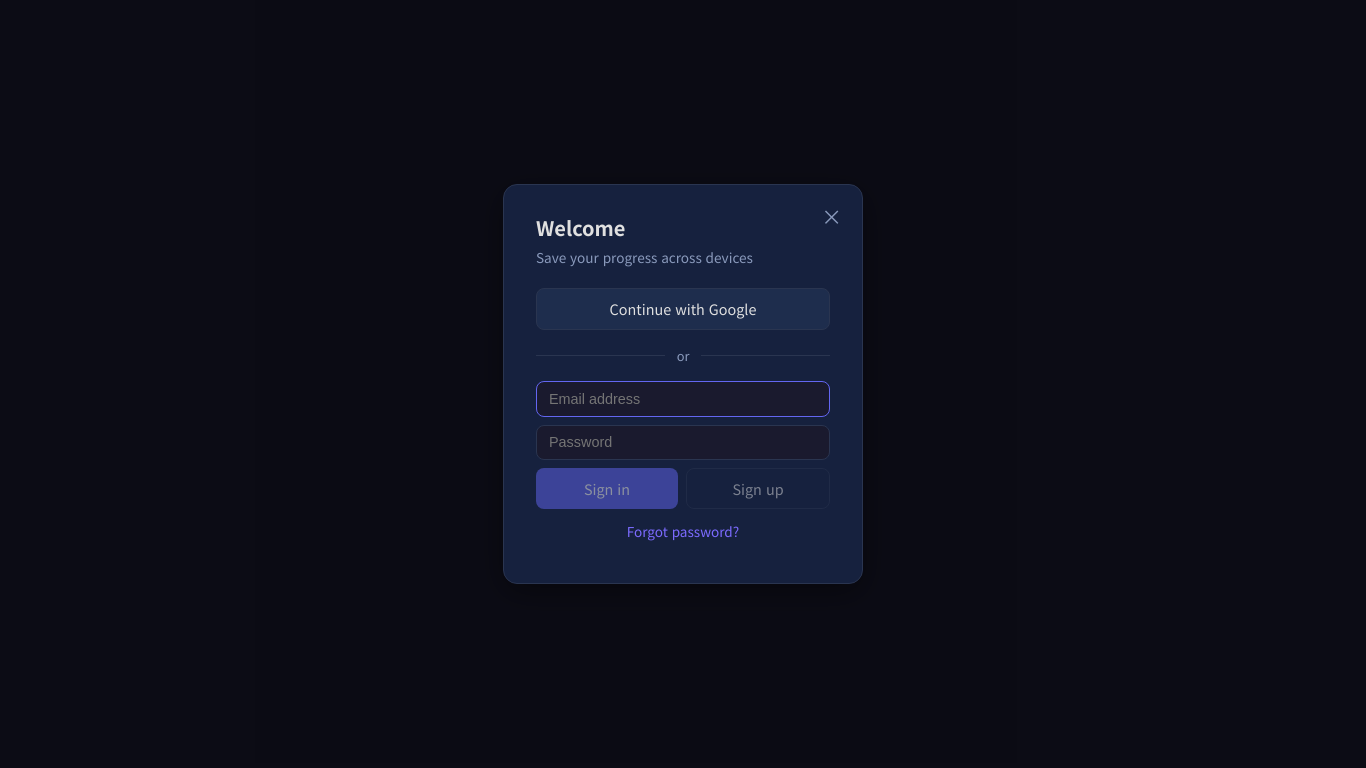
Test case: AuthModal — sign-in / sign-up flow › shows error message on sign-up failure
The width and height of the screenshot is (1366, 768).
Type "existing@example.com" into the field with placeholder "Email address" at [683, 399], box [536,381,830,417]
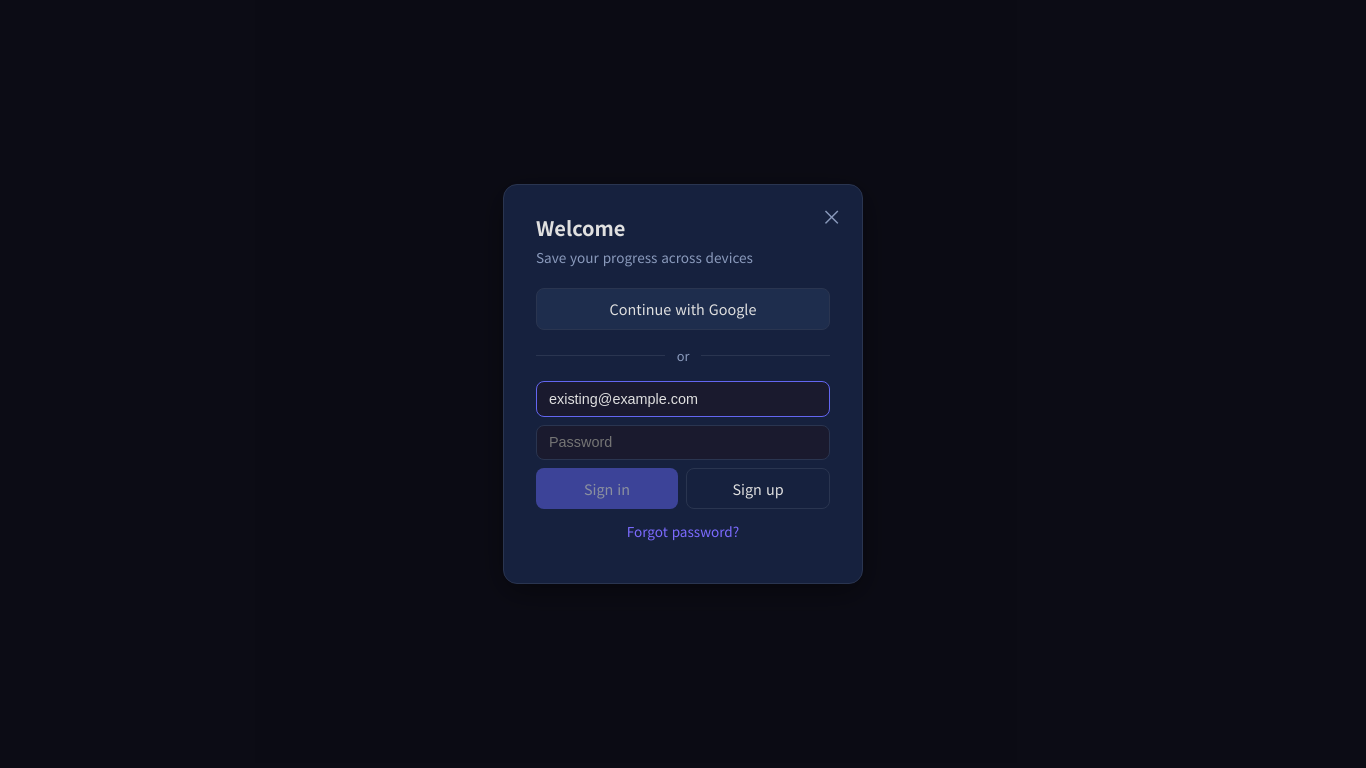
Type "pass123" into the password field with placeholder "Password" at [683, 442], box [536,425,830,460]
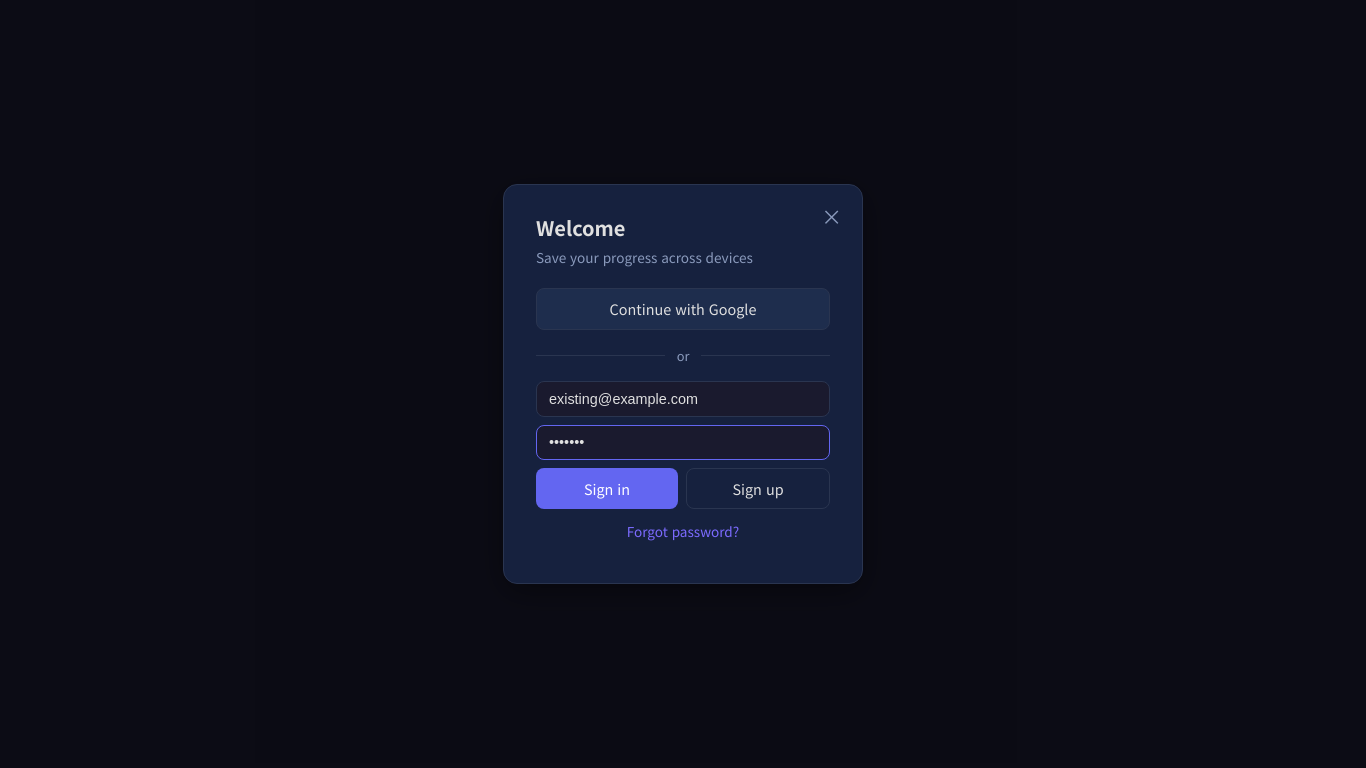
Click Sign up to reveal confirm email field
Click the button "Sign up" at [758, 488], box [686,468,830,509]
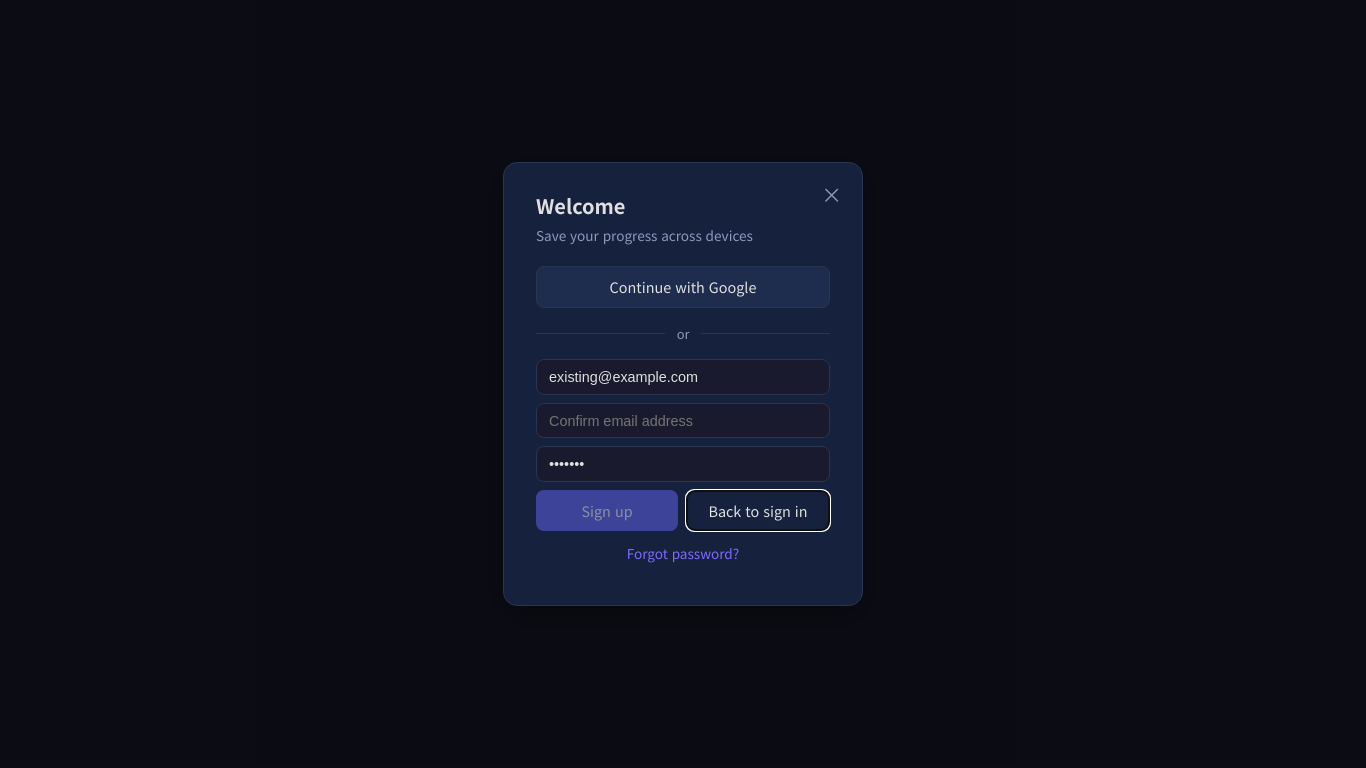
Type "existing@example.com" into the field with placeholder "Confirm email address" at [683, 421], box [536,403,830,438]
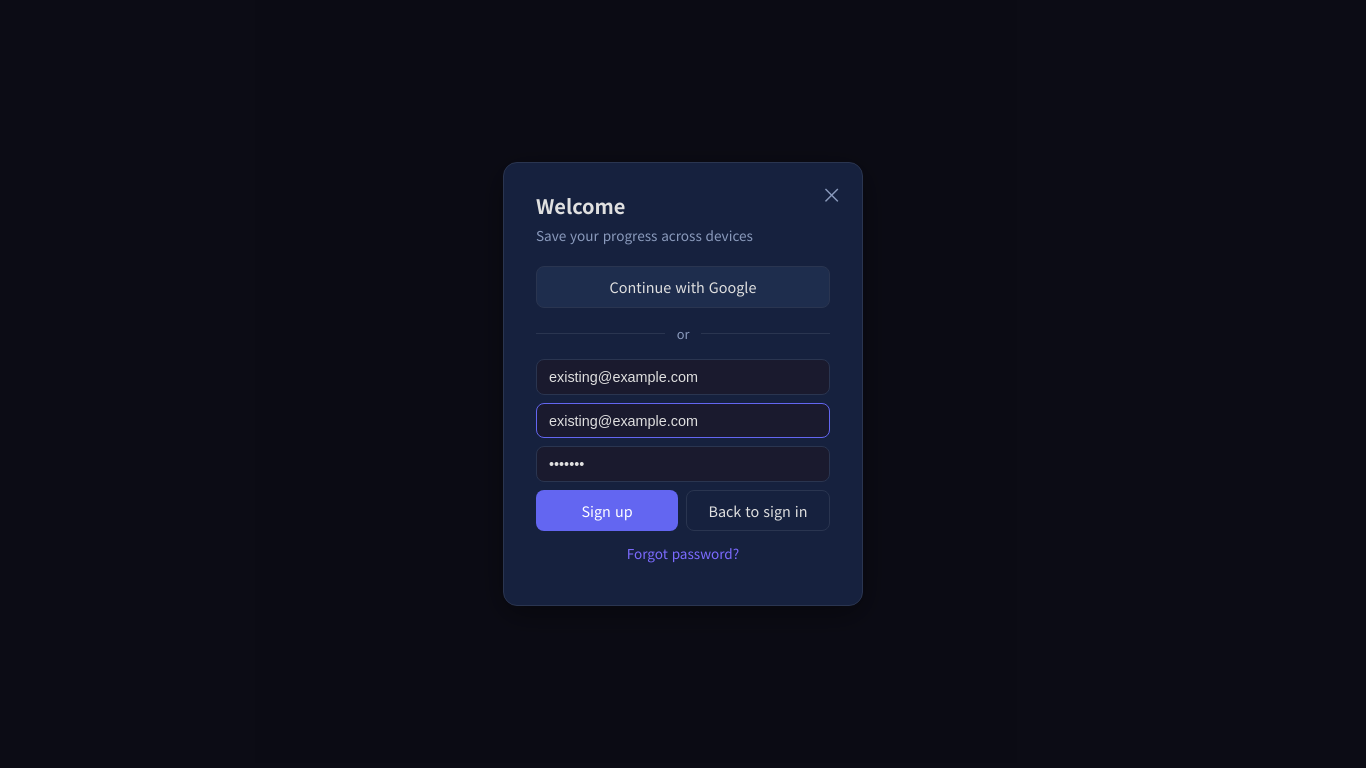
Click Sign up again to submit
Click the button "Sign up" at [607, 510], box [536,490,678,531]
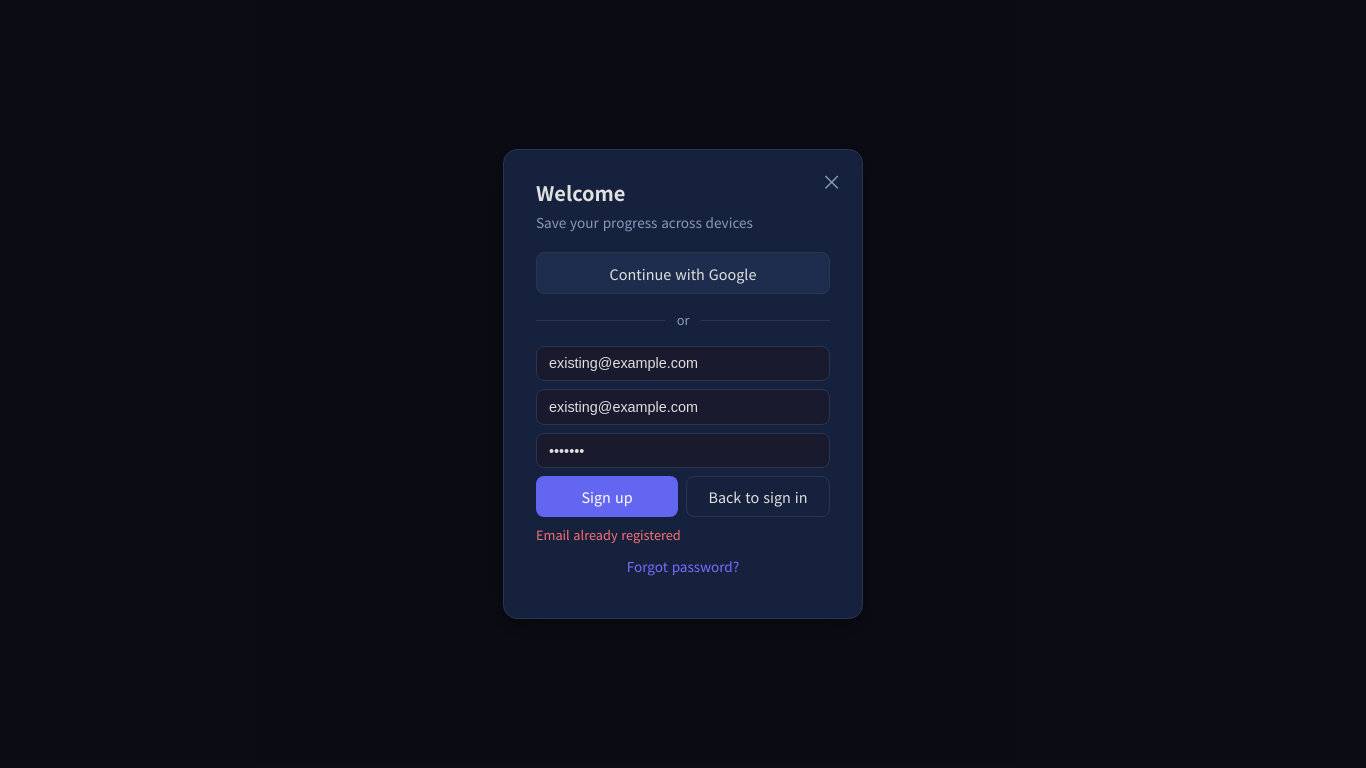
Expected: the text "Email already registered" is shown, [536,525,681,544]
